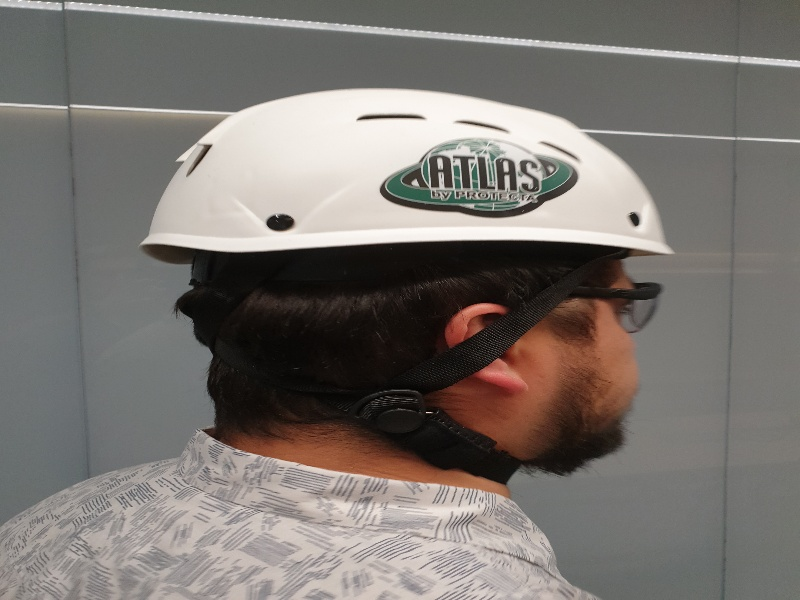Baret: (135, 88, 671, 257)
Gozluk: (557, 280, 667, 339)
